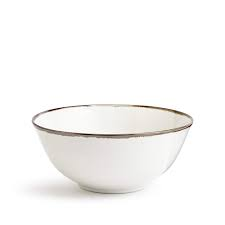bowl: (28, 101, 195, 197)
